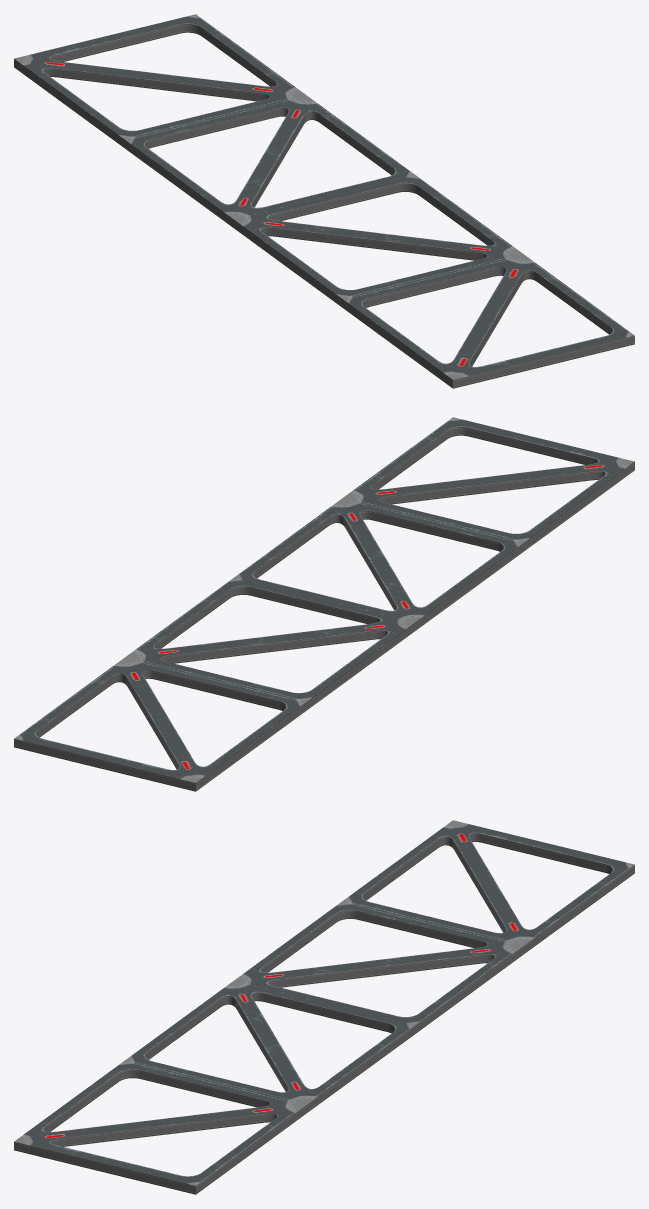
File: quaternius-scifi-column-metal.glb
3 views of the same model, one above another, from view 1: azimuth 30°, elevation 25°; view 2: azimuth 150°, elevation 25°; view 3: azimuth 330°, elevation 25° (orthographic).
Visible parts, largest first — view 1: Column_MetalSupport; view 2: Column_MetalSupport; view 3: Column_MetalSupport.
Part boxes in pixels (box(x1,y1,x2,y2)): Column_MetalSupport: box(14, 14, 634, 388); Column_MetalSupport: box(14, 417, 634, 791); Column_MetalSupport: box(14, 820, 634, 1194).
Bounding box in the file's own units: 0.9566 × 0.044 × 4.
Materials: 2 (2 with a texture image).
